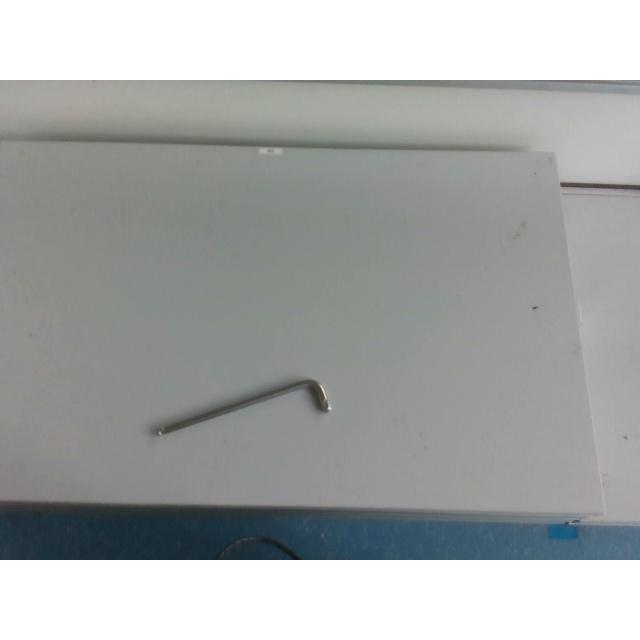AllenKey: (156, 378, 332, 436)
